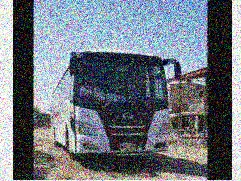bus: (55, 47, 181, 162)
